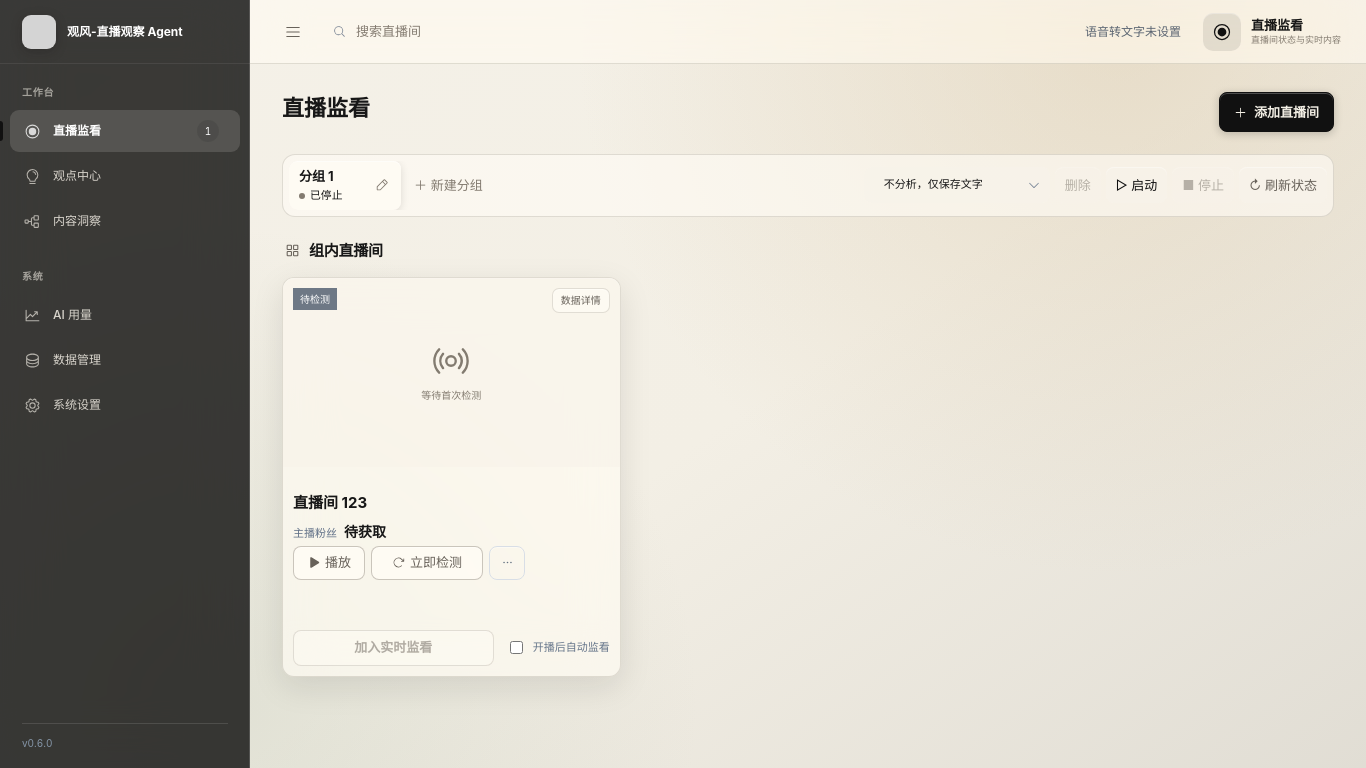
room form › shows manual detection feedback from the immediate IPC response
Click the button with aria-label "立即检测直播状态" at (427, 562), box top-left (371, 546), bottom-right (483, 580)
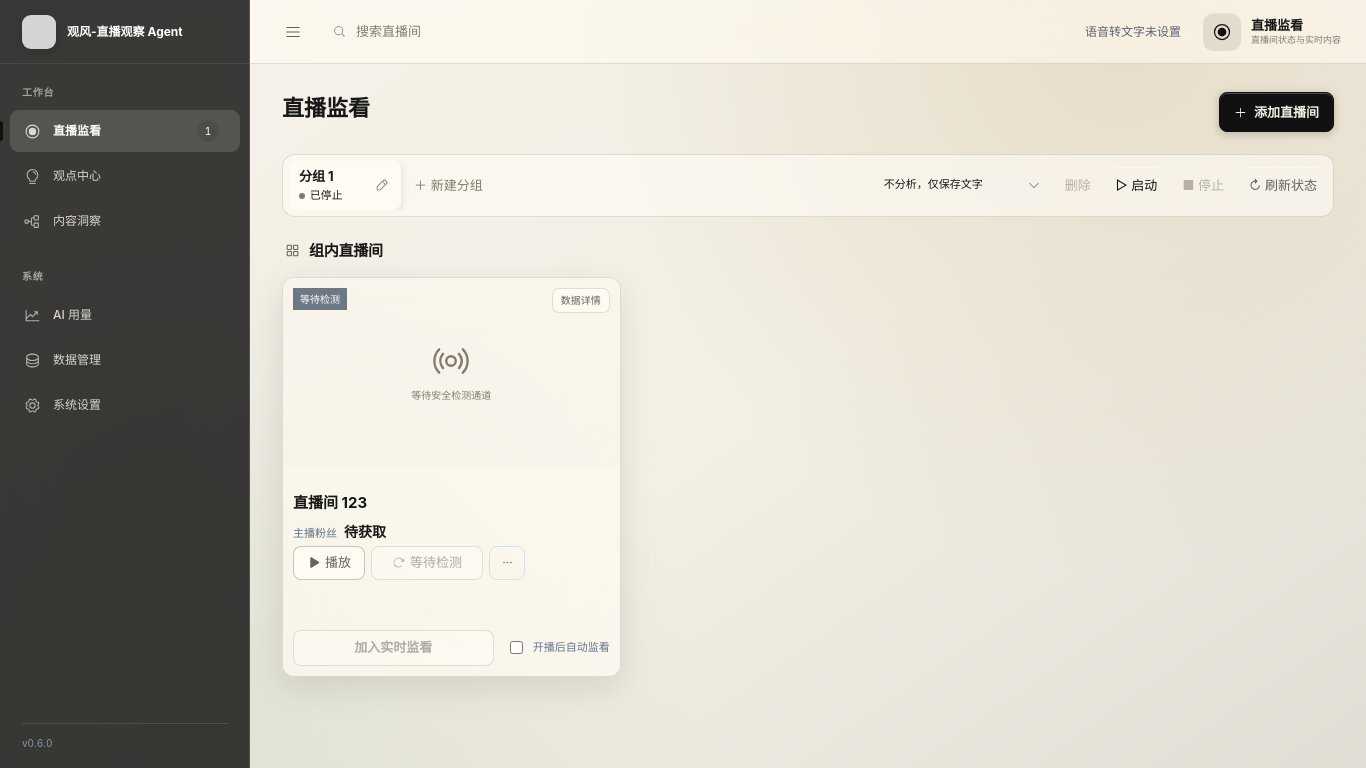
Expected: the heading "直播间 123" is shown, top-left (293, 492), bottom-right (367, 512)
Now the button "等待检测" is shown, box top-left (371, 546), bottom-right (483, 580)
